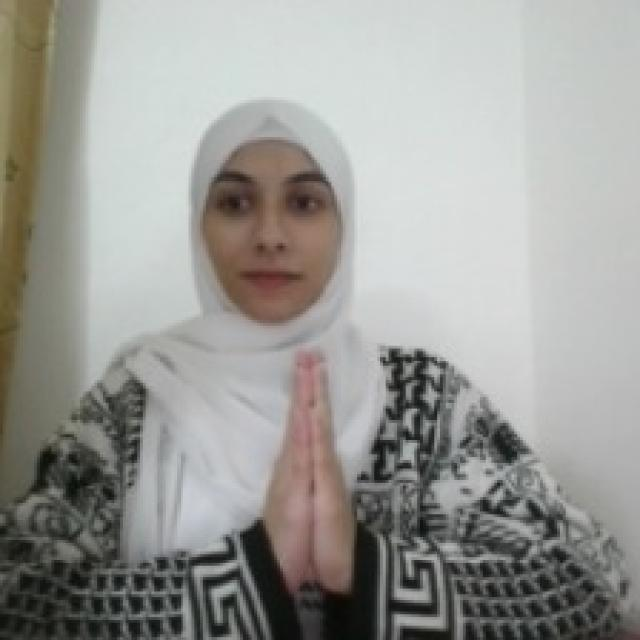sorry: (257, 340, 366, 601)
